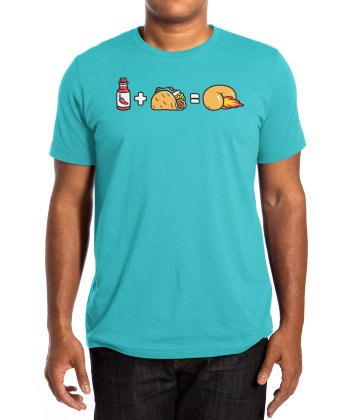design: (110, 73, 248, 117)
